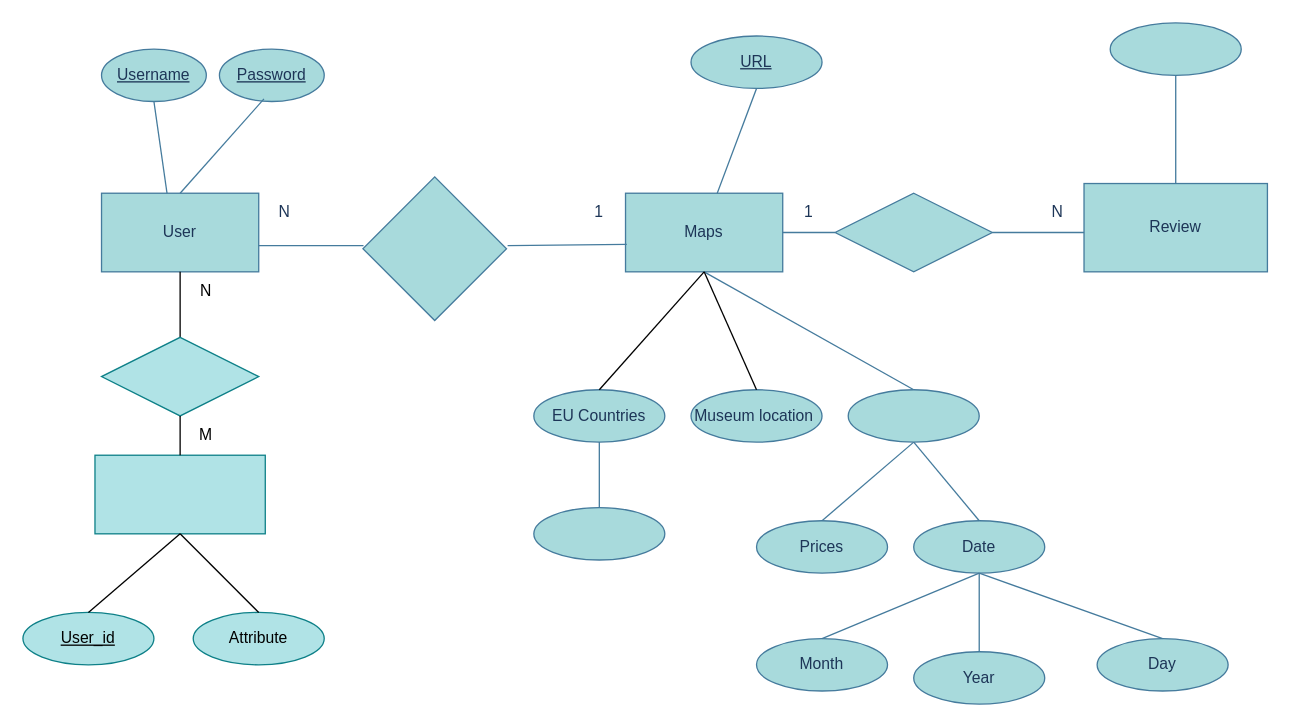
The diagram is 1290 pixels wide and 727 high, and some of its shapes have lost their labels. The shapes that lost their labels are listed below. From the top down, each one's centre as x and y in pixels, then its label:
At (1175,48): "rate".
At (434,248): "Has".
At (913,232): "Uses".
At (179,376): "add".
At (913,415): "Ticket".
At (179,494): "Wishlist".
At (599,533): "capitol cities".
